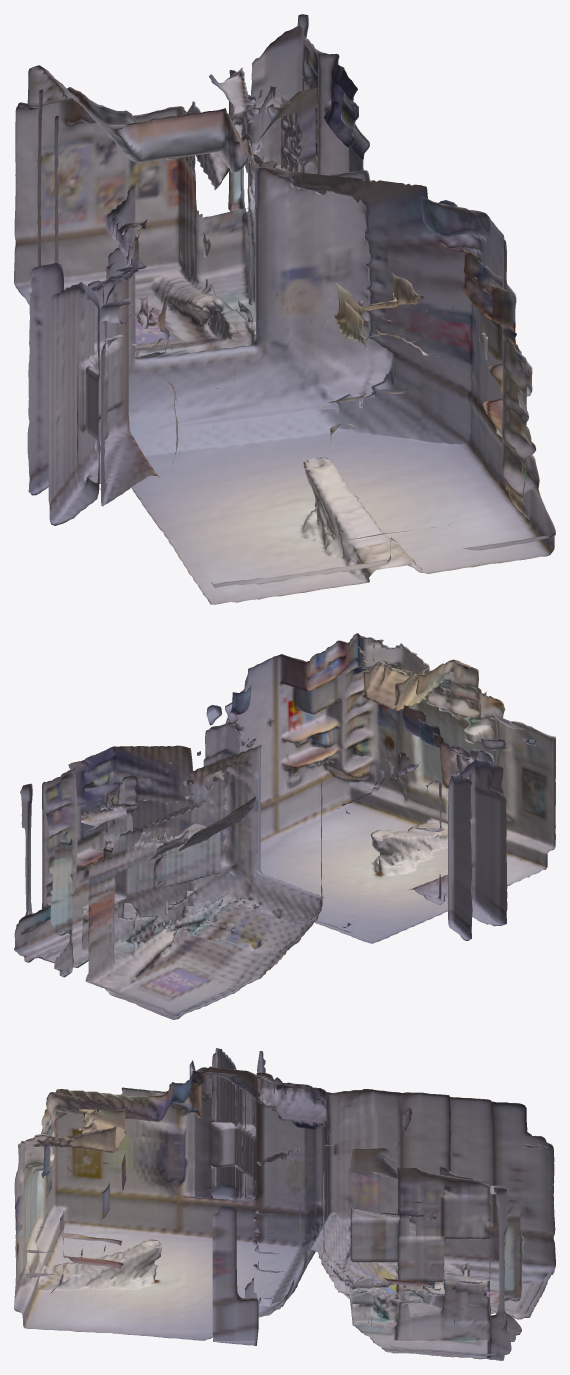
Rendered from 0-world.glb.
The picture shows the model from 3 angles, top to bottom: view 1: azimuth 30°, elevation 25°; view 2: azimuth 150°, elevation 25°; view 3: azimuth 270°, elevation 25°; orthographic projection. The views are drawn at different scales.
Parts seen in each view (by area): view 1: world; view 2: world; view 3: world.
Boxes of the visible parts, box(x1,y1,x2,y2) form: world: box(14, 14, 555, 604); world: box(14, 633, 555, 1019); world: box(14, 1048, 555, 1360).
Size of the model in its own units: 6.11 by 3.14 by 8.75.
